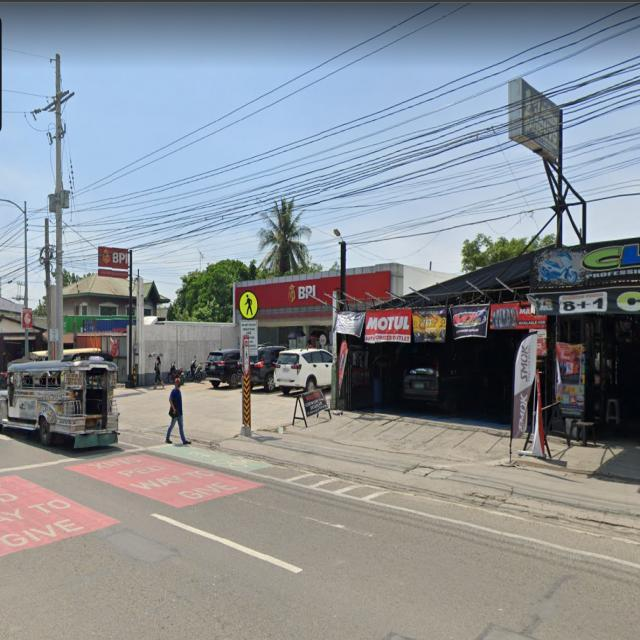pedestrian crossing: (239, 289, 261, 322)
